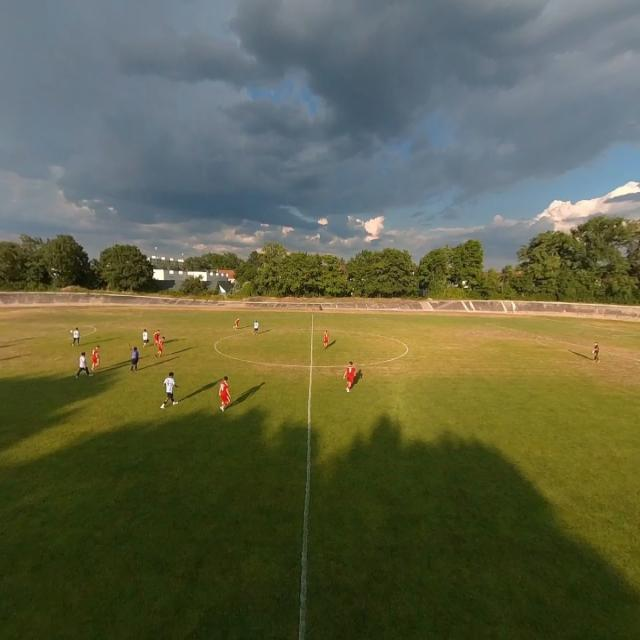ball: (70, 329, 72, 335)
